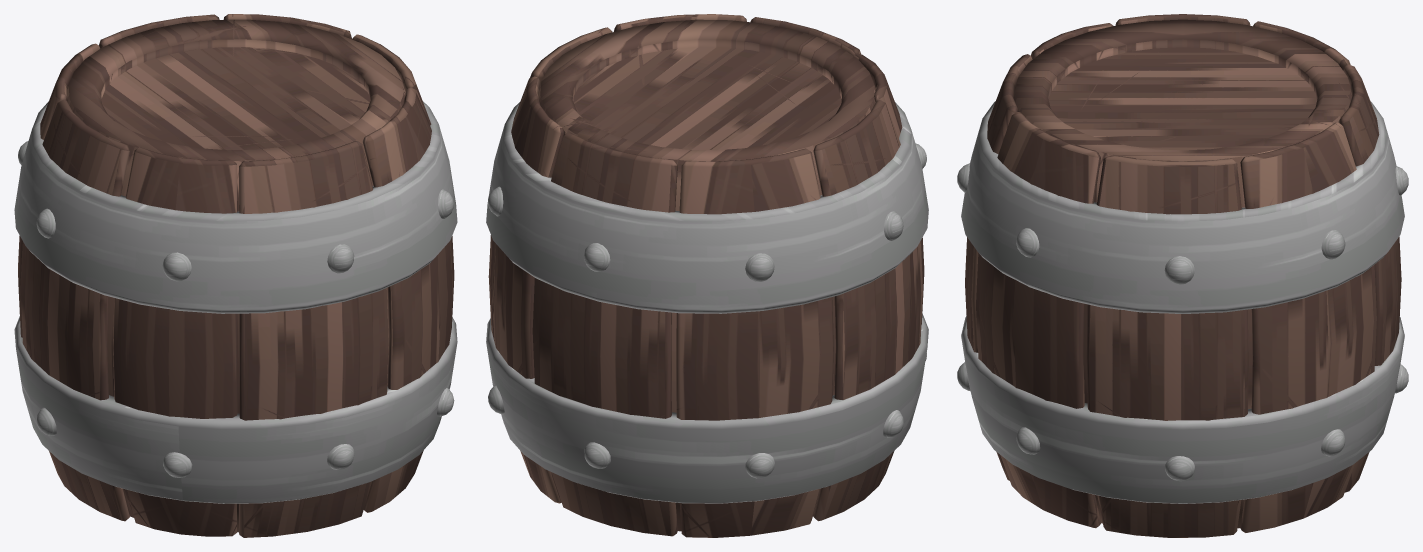
File: SM_barrel.glb
3 renders of one model, left to right at view 1: azimuth 30°, elevation 25°; view 2: azimuth 150°, elevation 25°; view 3: azimuth 270°, elevation 25°, orthographic.
Parts seen in each view (by area): view 1: SM_barrel; view 2: SM_barrel; view 3: SM_barrel.
Boxes of the visible parts, box(x1,y1,x2,y2) form: SM_barrel: box(14, 14, 457, 537); SM_barrel: box(486, 14, 928, 537); SM_barrel: box(957, 14, 1408, 537).
Bounding box in the file's own units: 0.9932 × 0.9125 × 0.9932.
Materials: 2 (2 with a texture image).
